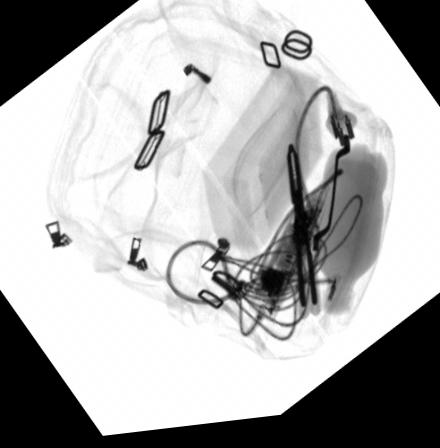Pliers: (283, 146, 324, 328)
Wrench: (310, 142, 352, 260)
